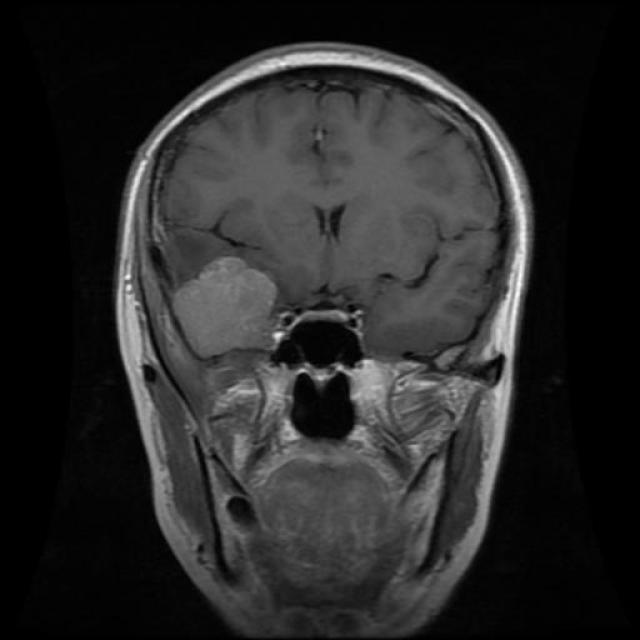meningioma: (172, 256, 279, 360)
